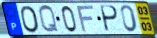0: (120, 5, 139, 34), (61, 5, 78, 33)
F: (76, 4, 96, 34)
O: (19, 5, 41, 34)
P: (100, 4, 120, 33)
Q: (38, 4, 61, 35)
